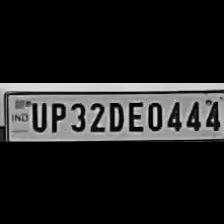0: (144, 98, 164, 130)
2: (86, 97, 106, 132)
3: (68, 98, 86, 132)
4: (182, 96, 202, 130), (202, 96, 220, 130), (164, 97, 182, 130)
D: (104, 98, 124, 132)
E: (124, 97, 144, 132)
P: (47, 98, 67, 132)
U: (28, 98, 46, 132)
